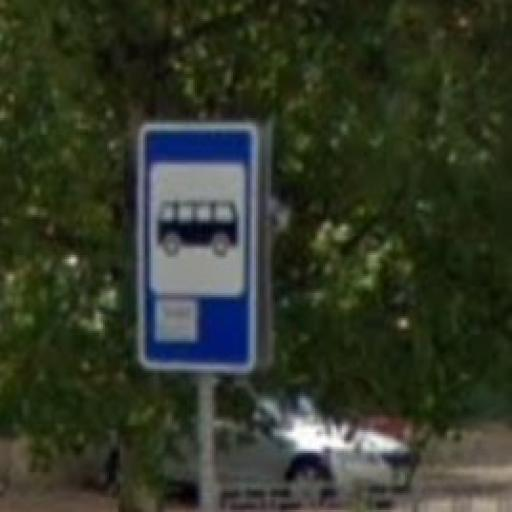traffic_sign: (137, 121, 263, 376)
